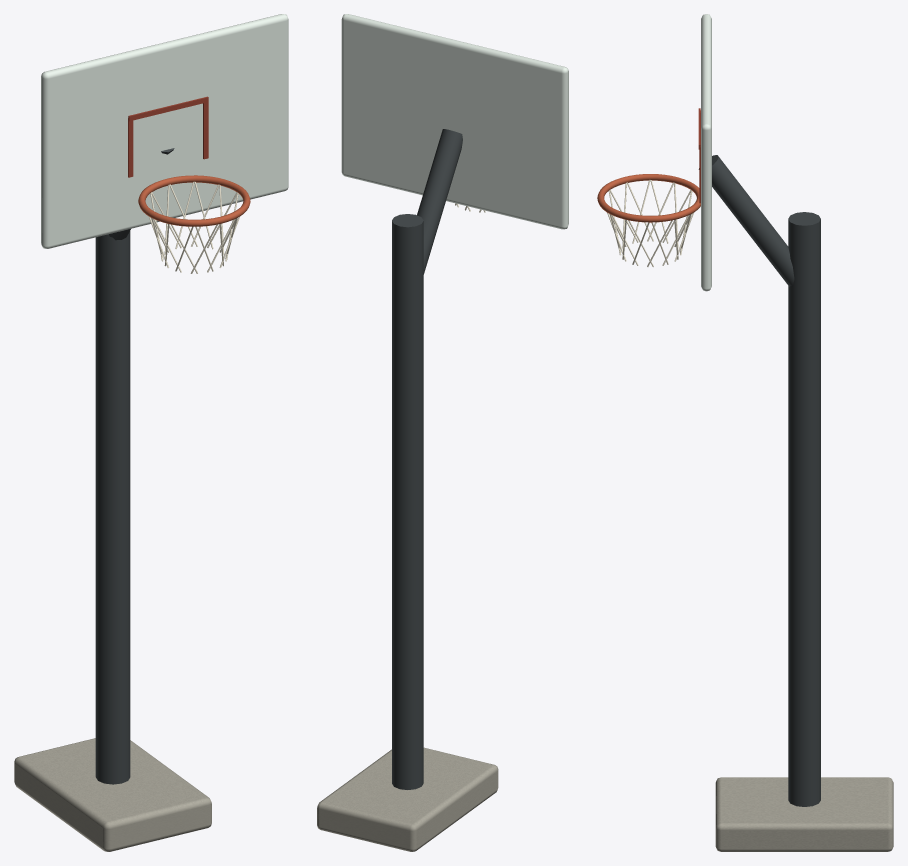
The model's file is hoop-post-596c344dd13f.glb.
The picture shows the model from 3 angles, left to right: view 1: azimuth 30°, elevation 25°; view 2: azimuth 150°, elevation 25°; view 3: azimuth 270°, elevation 25°; orthographic projection. The views are drawn at different scales.
Parts seen in each view (by area): view 1: surface_porcelain, surface_graphite, surface_stone, surface_white, surface_terracotta, surface_brick; view 2: surface_porcelain, surface_graphite, surface_stone; view 3: surface_graphite, surface_stone, surface_porcelain, surface_white, surface_terracotta.
Boxes of the visible parts, box(x1,y1,x2,y2) form: surface_porcelain: box(41, 14, 288, 248); surface_graphite: box(95, 148, 174, 784); surface_stone: box(14, 738, 211, 851); surface_white: box(148, 181, 240, 273); surface_terracotta: box(138, 175, 250, 226); surface_brick: box(128, 96, 208, 177); surface_porcelain: box(341, 14, 568, 229); surface_graphite: box(392, 129, 462, 789); surface_stone: box(317, 747, 498, 851); surface_graphite: box(698, 155, 820, 806); surface_stone: box(715, 777, 893, 851); surface_porcelain: box(701, 14, 711, 291); surface_white: box(607, 180, 693, 266); surface_terracotta: box(597, 174, 700, 222).
Bounding box in the file's own units: 1.18 × 3.67 × 1.3.
6 materials, 2 textured.
